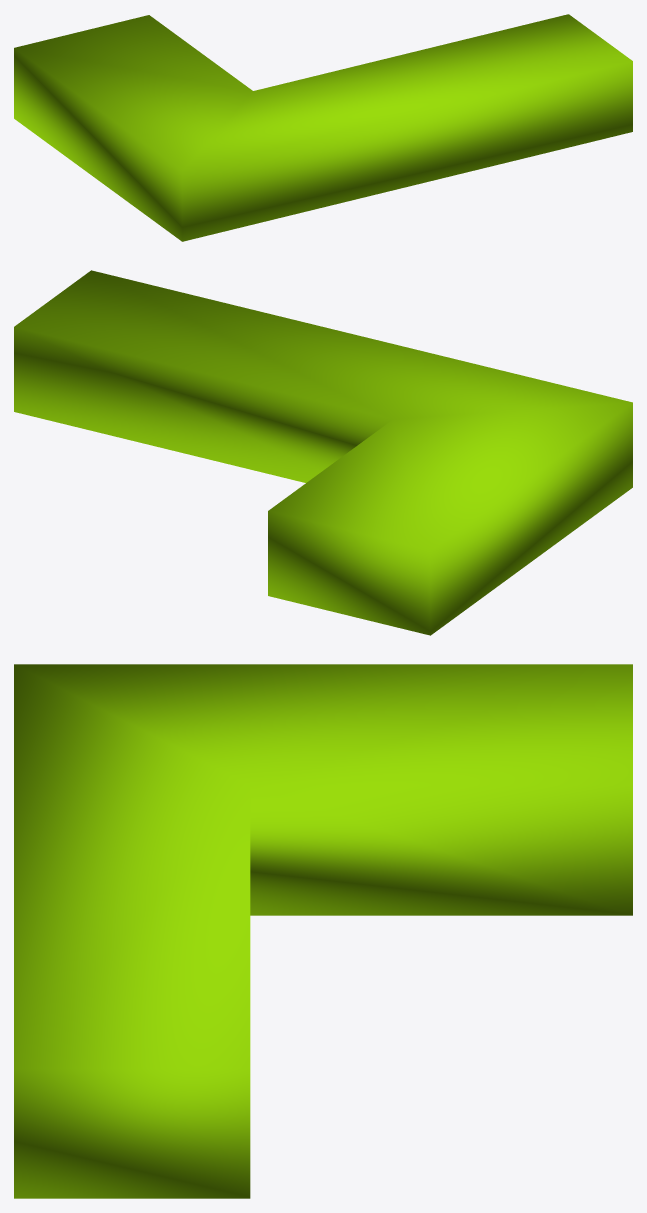
The model's file is HPEmassa.glb.
3 views of the same model, one above another, from view 1: azimuth 30°, elevation 25°; view 2: azimuth 150°, elevation 25°; view 3: azimuth 270°, elevation 25° (orthographic). The views are drawn at different scales.
Visible parts, largest first — view 1: HPEmassa; view 2: HPEmassa; view 3: HPEmassa.
Part boxes in pixels (box(x1,y1,x2,y2)): HPEmassa: box(14, 14, 632, 241); HPEmassa: box(14, 270, 632, 635); HPEmassa: box(14, 664, 632, 1198).
Bounding box in the file's own units: 10 × 1.5 × 6.47.
